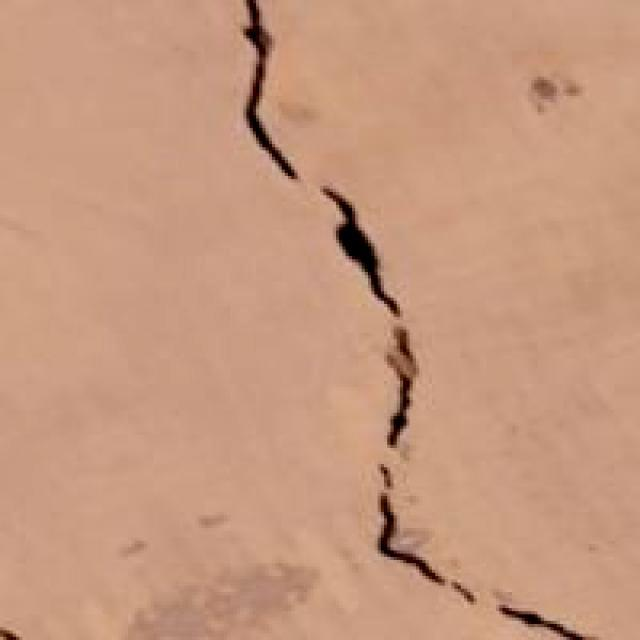crack: (212, 0, 634, 640)
